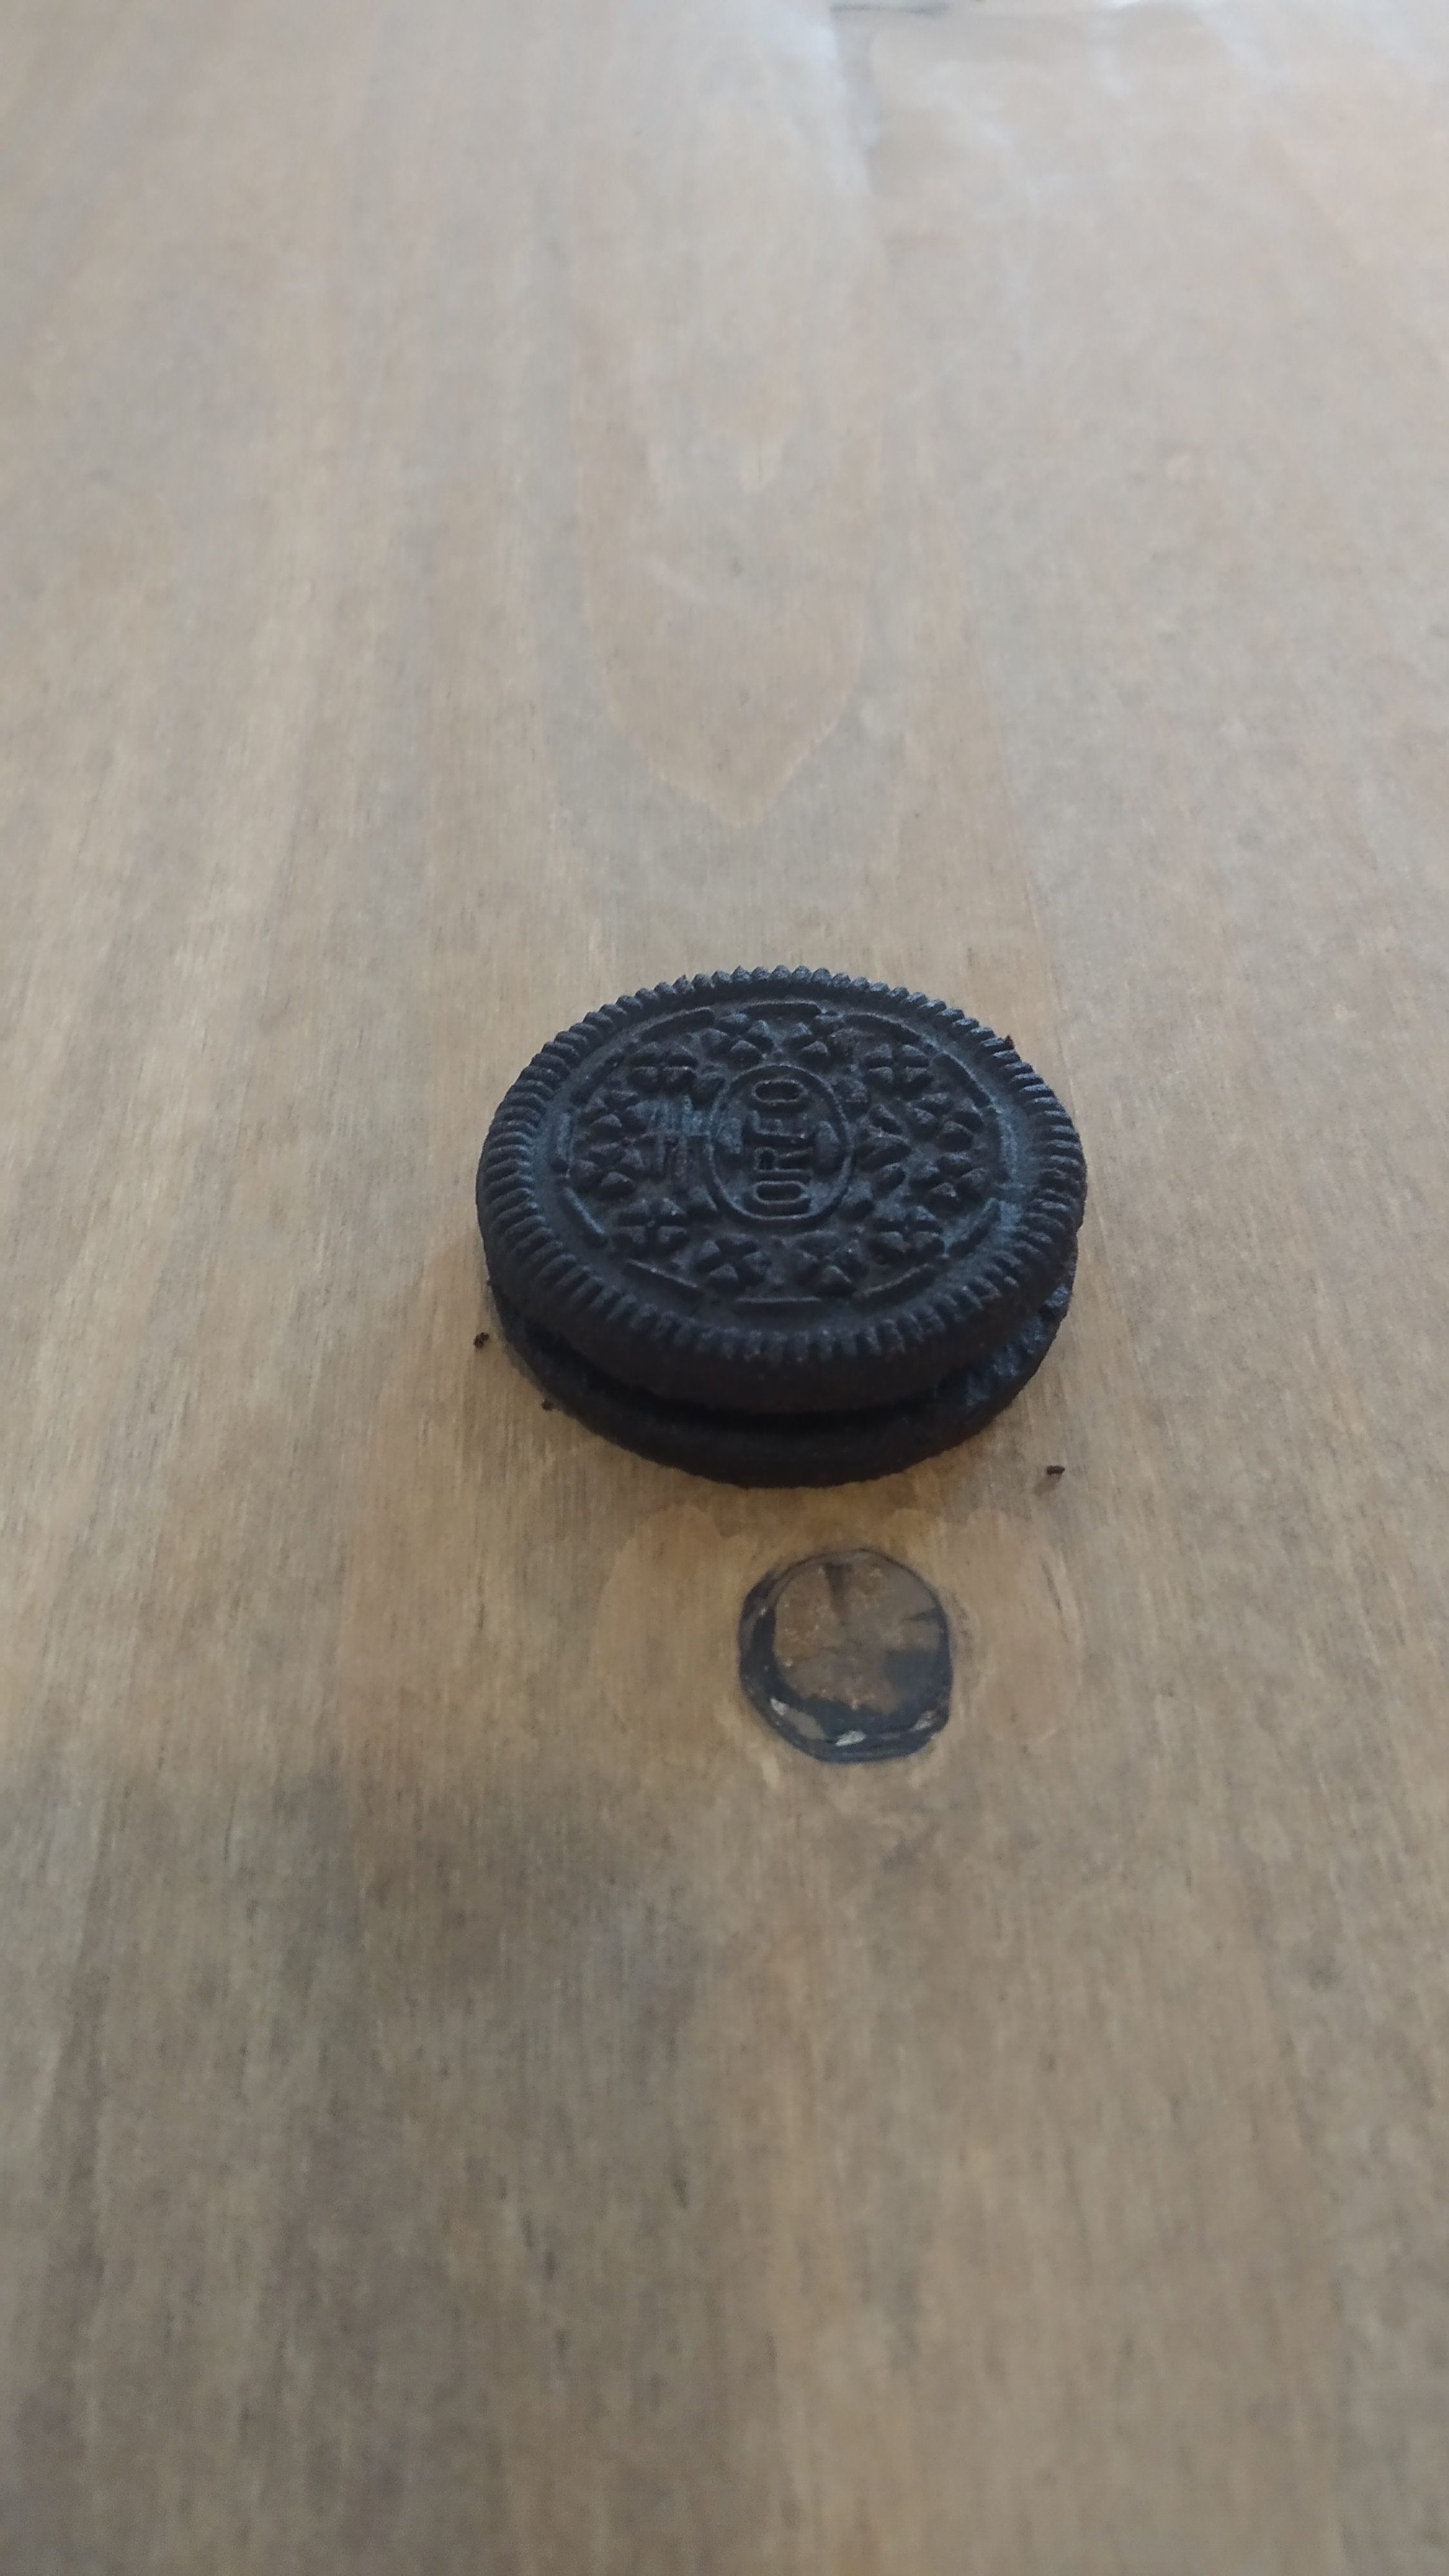oreo: (474, 968, 1088, 1491)
